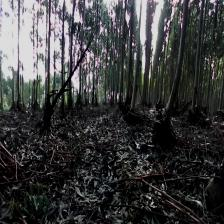trunk: (165, 5, 189, 120), (192, 9, 204, 110), (130, 10, 141, 110)
